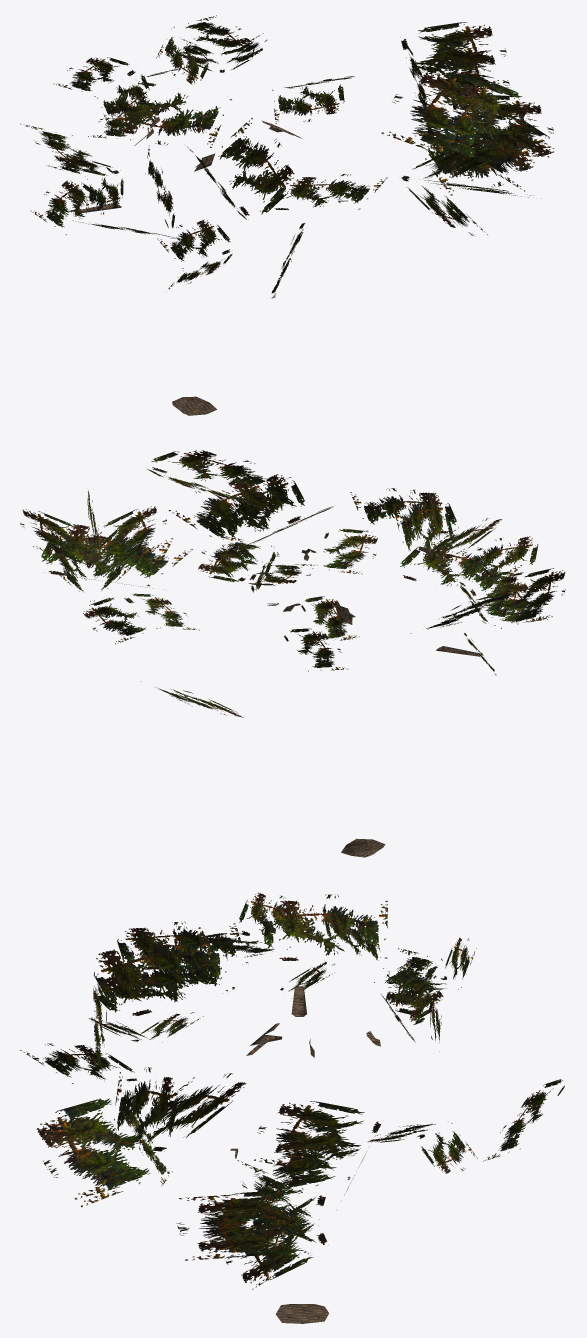
The model's file is tree_pine_far.gltf.
3 renders of one model, top to bottom at view 1: azimuth 30°, elevation 25°; view 2: azimuth 150°, elevation 25°; view 3: azimuth 270°, elevation 25°, orthographic. The views are drawn at different scales.
Visible parts, largest first — view 1: tree_pine_far; view 2: tree_pine_far; view 3: tree_pine_far.
Part boxes in pixels (x1,y1,x2,y2): tree_pine_far: (20, 15, 554, 415); tree_pine_far: (20, 450, 565, 857); tree_pine_far: (20, 892, 564, 1323).
Bounding box in the file's own units: 19.38 × 12.31 × 15.98.
Materials: 2 (2 with a texture image).
